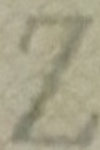Z: (0, 0, 99, 149)
